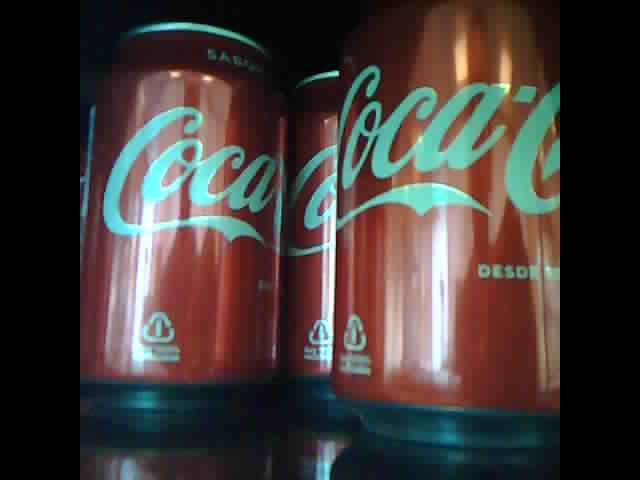coca cola: (335, 1, 560, 441), (80, 21, 288, 418), (285, 54, 340, 387)
